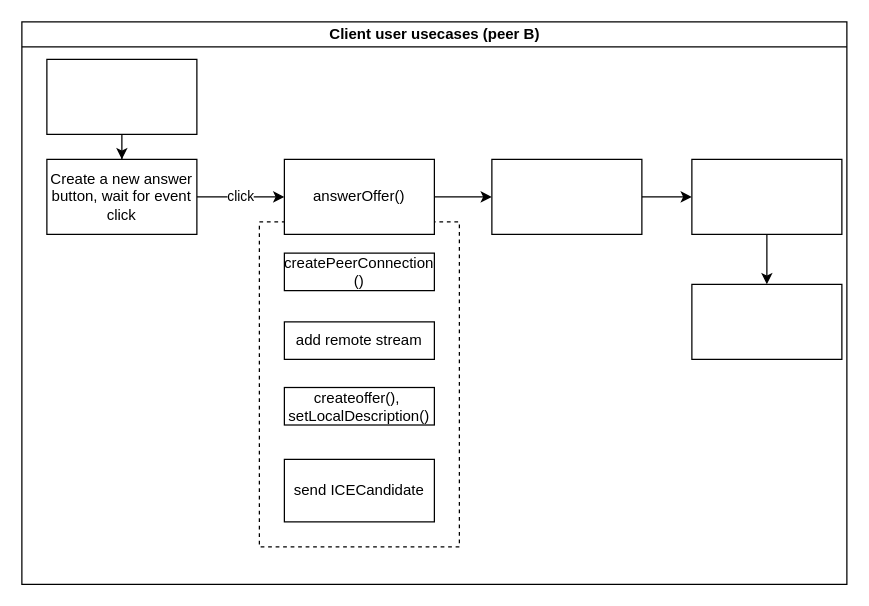
Image size: 869x606. Some labels were removed from this diagram. The centre of each missing label's shape, as x and y in pixels:
Listen to event "ack": pixel 766 196
Listen to signal " availableOffers " and " newOfferAwaiting ": pixel 121 96
send event "newAnswer" to server: pixel 566 196
updateICECandiate() (run API addICECandidate()): pixel 766 321
